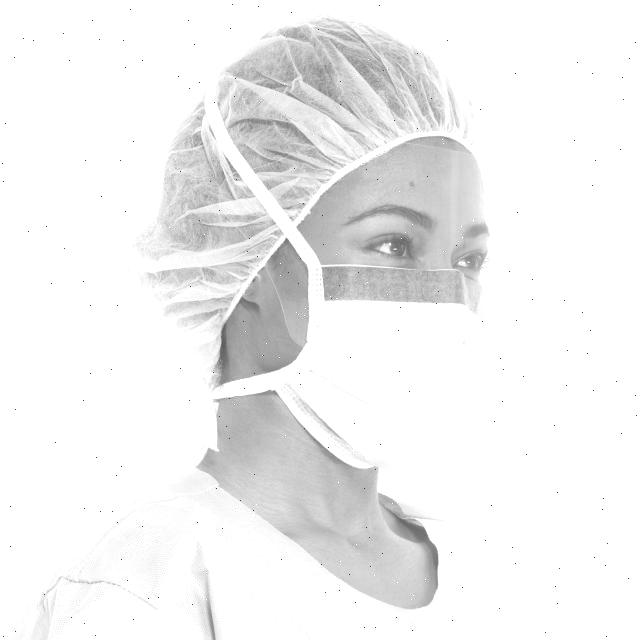fake: (289, 267, 484, 483)
real: (249, 135, 492, 482)
